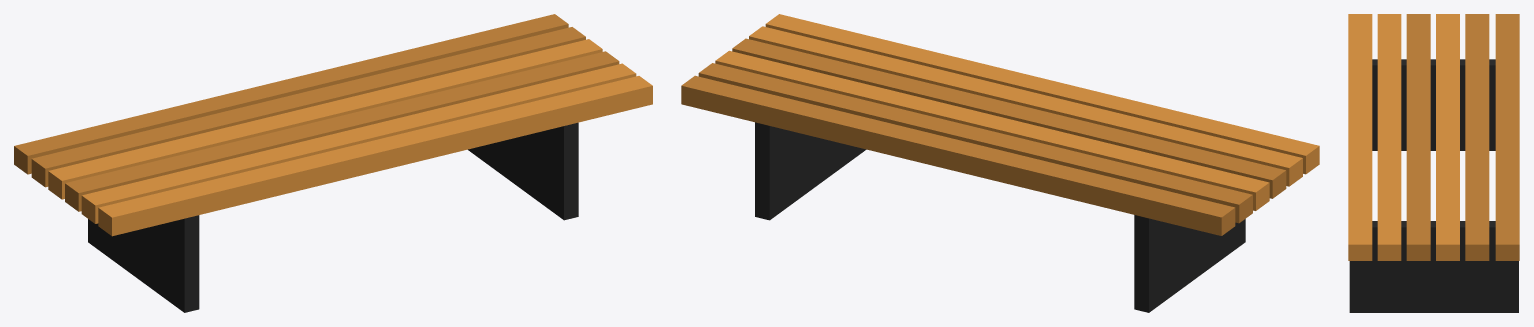
Rendered from prop_bench.glb.
3 renders of one model, left to right at view 1: azimuth 30°, elevation 25°; view 2: azimuth 150°, elevation 25°; view 3: azimuth 270°, elevation 25°, orthographic. The views are drawn at different scales.
Visible parts, largest first — view 1: bench2; view 2: bench2; view 3: bench2.
Boxes of the visible parts, x1=… form: bench2: x1=14, y1=14, x2=652, y2=312; bench2: x1=681, y1=14, x2=1319, y2=312; bench2: x1=1348, y1=14, x2=1519, y2=312.
Bounding box in the file's own units: 5.4 × 1.08 × 1.69.
